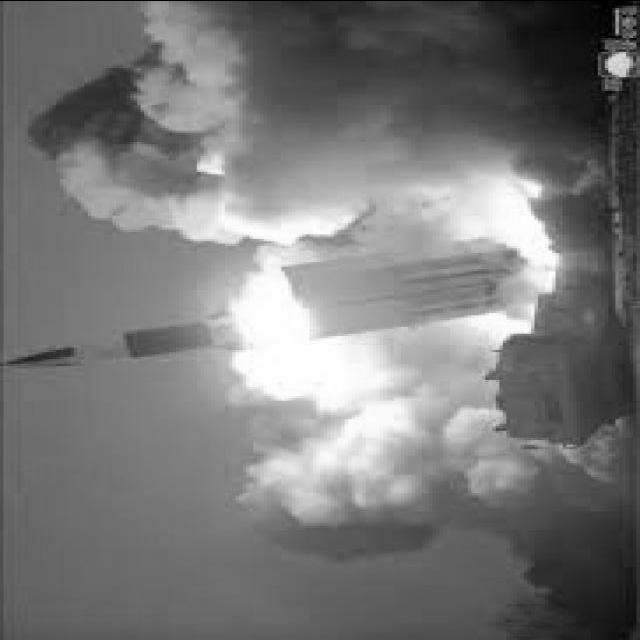Missile: (0, 317, 244, 373)
